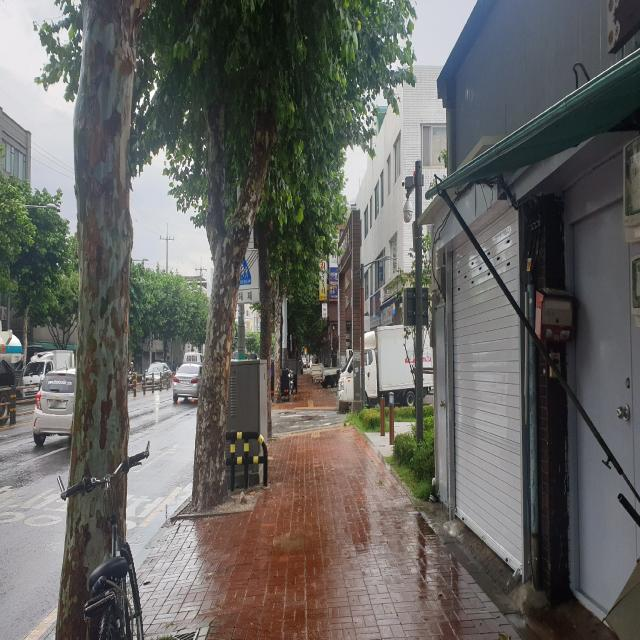car: (338, 323, 433, 408), (33, 360, 76, 446), (0, 320, 25, 425), (22, 350, 75, 398), (172, 364, 203, 404), (142, 362, 172, 390), (176, 351, 204, 375)
motorbike: (128, 368, 138, 391)
